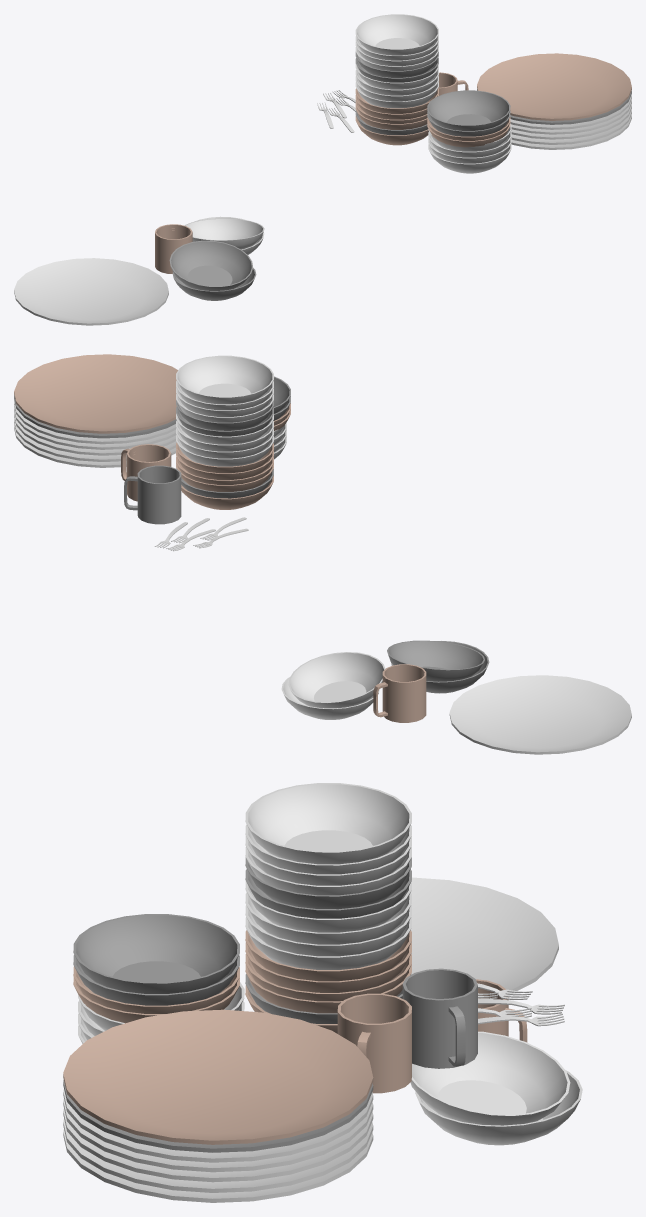
Rendered from dishes5.gltf.
The picture shows the model from 3 angles, top to bottom: view 1: azimuth 30°, elevation 25°; view 2: azimuth 150°, elevation 25°; view 3: azimuth 270°, elevation 25°; orthographic projection. The views are drawn at different scales.
Visible parts, largest first — view 1: dishes; view 2: dishes; view 3: dishes.
Boxes of the visible parts, left/top/right/bottom form: dishes: left=14, top=14, right=631, bottom=325; dishes: left=14, top=354, right=631, bottom=754; dishes: left=63, top=783, right=582, bottom=1202.
Size of the model in its own units: 1.27 by 0.4816 by 0.5187.
